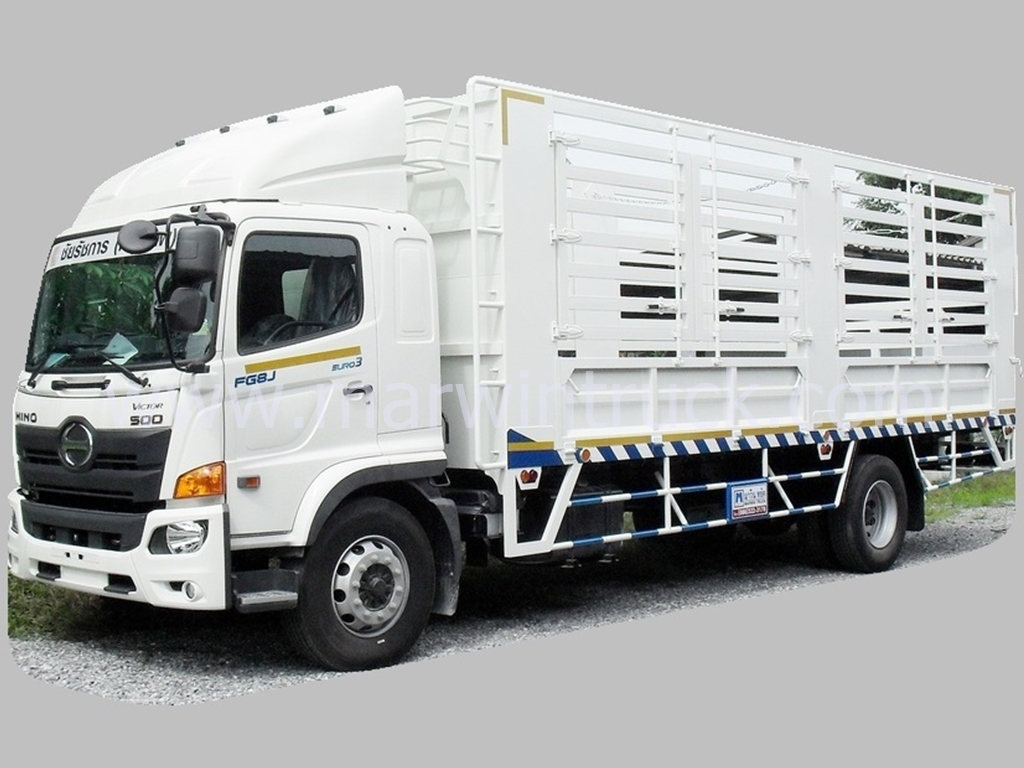truck: (10, 78, 1012, 666)
